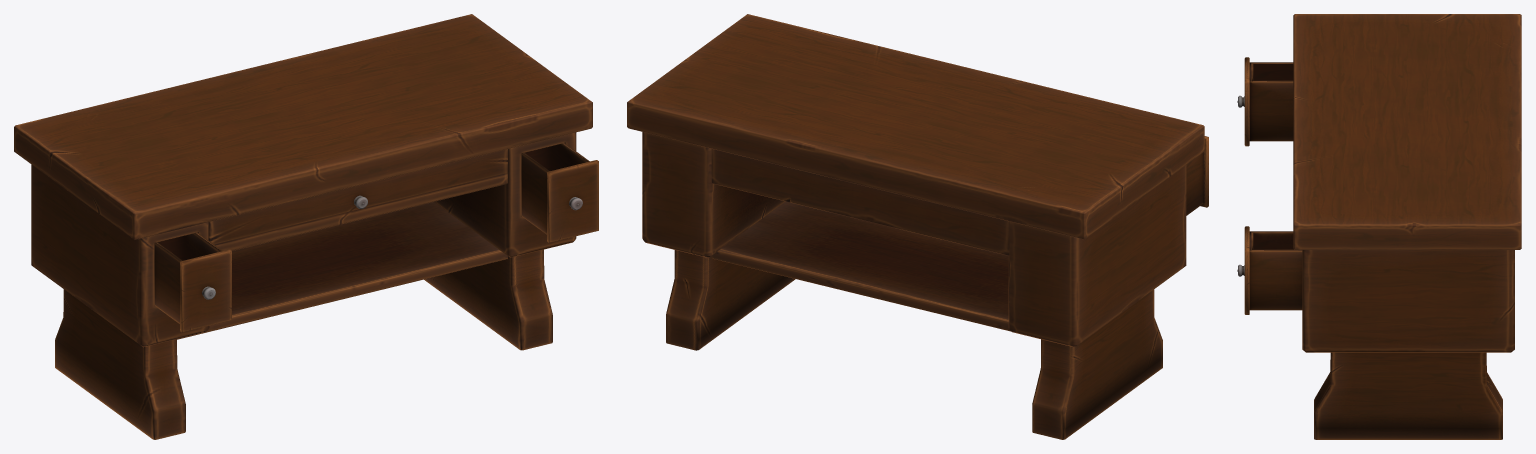
Rendered from SM_WoodDesk.fbx.
The picture shows the model from 3 angles, left to right: view 1: azimuth 30°, elevation 25°; view 2: azimuth 150°, elevation 25°; view 3: azimuth 270°, elevation 25°; orthographic projection. The views are drawn at different scales.
Visible parts, largest first — view 1: SM_WoodDesk_LOD0; view 2: SM_WoodDesk_LOD0; view 3: SM_WoodDesk_LOD0.
Part boxes in pixels (x1,y1,x2,y2): SM_WoodDesk_LOD0: (14,14,598,439); SM_WoodDesk_LOD0: (627,14,1208,439); SM_WoodDesk_LOD0: (1237,14,1521,439).
Size of what is drawn, in the model's own units: 3.3 by 1.66 by 1.88.
